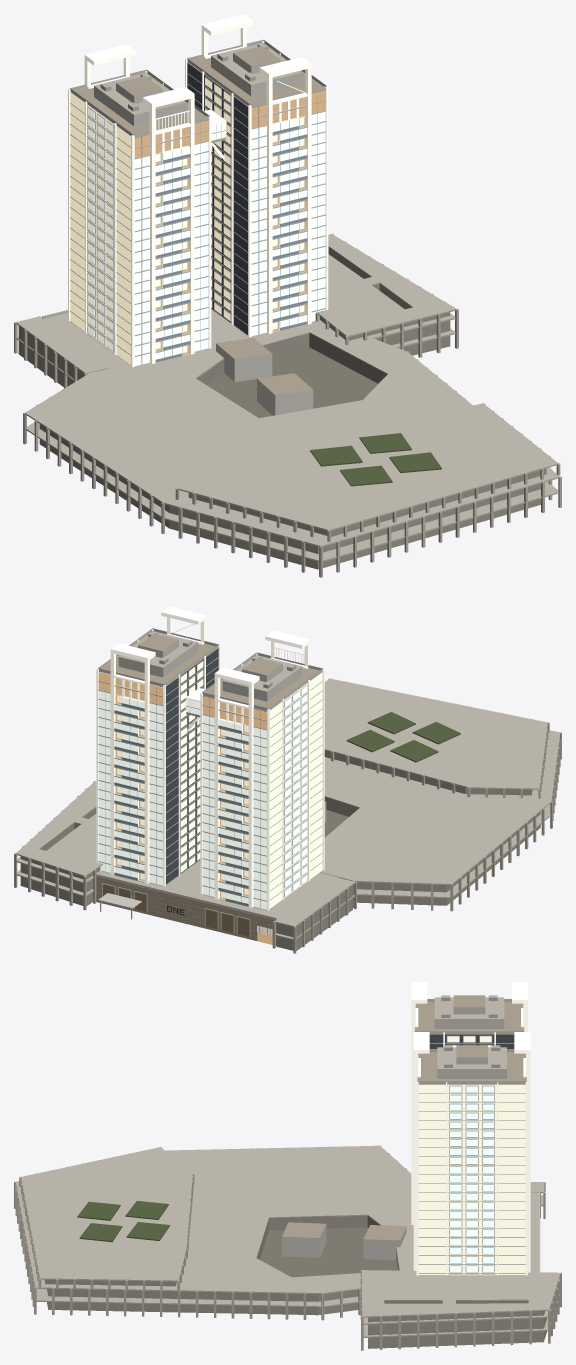
Rendered from one_constitution_avenue.glb.
The picture shows the model from 3 angles, top to bottom: view 1: azimuth 30°, elevation 25°; view 2: azimuth 150°, elevation 25°; view 3: azimuth 270°, elevation 25°; orthographic projection. The views are drawn at different scales.
Parts seen in each view (by area): view 1: m_concrete_raw, m_glass_balcony, m_band_light, m_fin_white, m_glass_blue, m_frame_bay, m_clad_grey, m_roof_concrete, m_court_floor, m_rail_glass, m_recess_dark, m_planter_green; view 2: m_concrete_raw, m_glass_balcony, m_band_light, m_fin_white, m_glass_blue, m_frame_bay, m_clad_grey, m_podium_stone, m_rail_glass, m_recess_dark, m_roof_concrete, m_planter_green (+1 smaller); view 3: m_concrete_raw, m_glass_blue, m_frame_bay, m_band_light, m_fin_white, m_glass_balcony, m_roof_concrete, m_court_floor, m_planter_green, m_clad_grey.
Part boxes in pixels (box(x1,y1,x2,y2)): m_concrete_raw: box(14, 43, 561, 577); m_glass_balcony: box(88, 107, 325, 365); m_band_light: box(42, 40, 326, 415); m_fin_white: box(68, 14, 328, 367); m_glass_blue: box(70, 78, 305, 364); m_frame_bay: box(18, 247, 546, 569); m_clad_grey: box(187, 63, 247, 334); m_roof_concrete: box(71, 46, 325, 395); m_court_floor: box(207, 291, 403, 417); m_rail_glass: box(155, 126, 307, 362); m_recess_dark: box(134, 90, 325, 354); m_planter_green: box(310, 433, 441, 486); m_concrete_raw: box(14, 631, 561, 953); m_glass_balcony: box(98, 685, 307, 909); m_band_light: box(96, 628, 326, 941); m_fin_white: box(96, 606, 324, 935); m_glass_blue: box(99, 661, 322, 908); m_frame_bay: box(20, 750, 540, 950); m_clad_grey: box(166, 648, 218, 884); m_podium_stone: box(96, 876, 276, 945); m_rail_glass: box(114, 703, 248, 906); m_recess_dark: box(98, 672, 272, 944); m_roof_concrete: box(99, 634, 325, 802); m_planter_green: box(346, 712, 460, 762); m_concrete_raw: box(14, 995, 561, 1350); m_glass_blue: box(418, 1036, 525, 1274); m_frame_bay: box(44, 1193, 547, 1348); m_band_light: box(282, 999, 557, 1275); m_fin_white: box(411, 982, 530, 1275); m_glass_balcony: box(450, 1086, 494, 1275); m_roof_concrete: box(282, 995, 526, 1240); m_court_floor: box(260, 1227, 397, 1277); m_planter_green: box(77, 1201, 169, 1242); m_clad_grey: box(429, 1034, 514, 1048).
Size of the model in its own units: 161 by 106 by 208.
